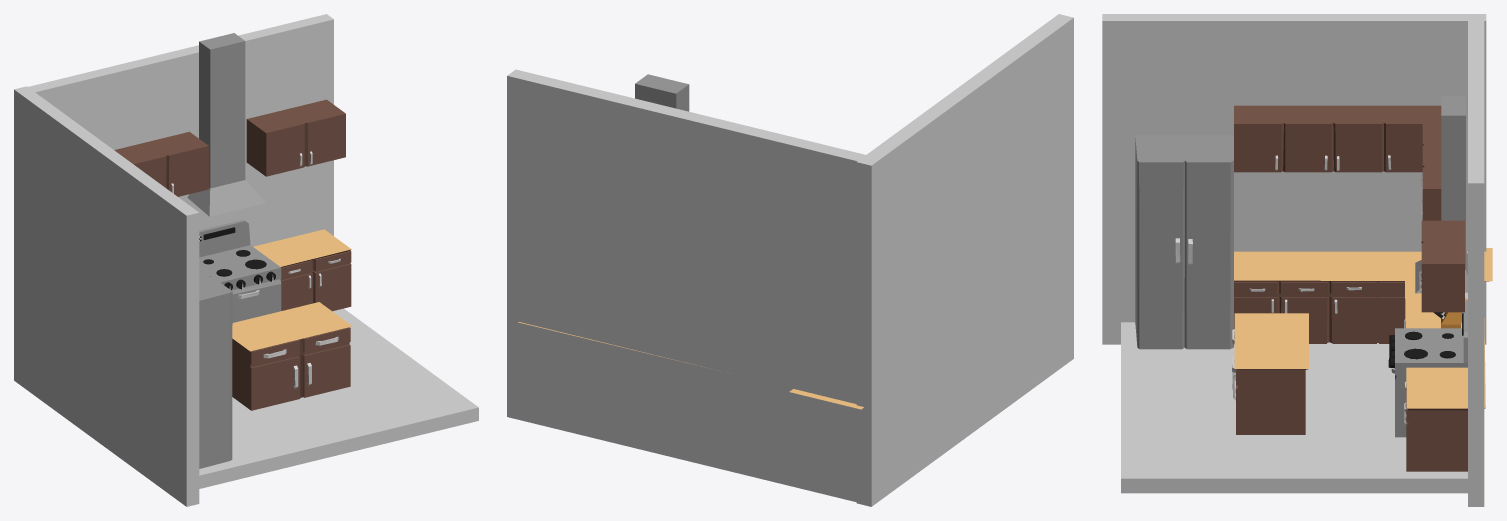
File: Kitchen.fbx
3 renders of one model, left to right at view 1: azimuth 30°, elevation 25°; view 2: azimuth 150°, elevation 25°; view 3: azimuth 270°, elevation 25°, orthographic. The views are drawn at different scales.
Parts seen in each view (by area): view 1: mesh_9585808, mesh_1810159463, mesh_107145946, mesh_1348253054, mesh_1000109285, mesh_536980032, mesh_384672652, mesh_1142142446, mesh_900006215, mesh_1955243732; view 2: mesh_1810159463, mesh_9585808, mesh_1000109285; view 3: mesh_9585808, mesh_107145946, mesh_536980032, mesh_1913738476, mesh_2142097961, mesh_1348253054, mesh_1810159463, mesh_1142142446, mesh_384672652, mesh_1000109285, mesh_900006215, mesh_1955243732.
Part boxes in pixels (box(x1,y1,x2,y2)): mesh_9585808: box(14, 86, 199, 506); mesh_1810159463: box(28, 14, 333, 246); mesh_107145946: box(199, 308, 478, 488); mesh_1348253054: box(232, 302, 352, 410); mesh_1000109285: box(187, 33, 265, 216); mesh_536980032: box(199, 267, 232, 468); mesh_384672652: box(246, 99, 345, 176); mesh_1142142446: box(253, 229, 351, 311); mesh_900006215: box(199, 219, 281, 322); mesh_1955243732: box(114, 131, 208, 196); mesh_1810159463: box(507, 69, 865, 502); mesh_9585808: box(856, 14, 1073, 506); mesh_1000109285: box(635, 74, 689, 111); mesh_9585808: box(1102, 14, 1486, 344); mesh_107145946: box(1121, 322, 1467, 493); mesh_536980032: box(1135, 135, 1233, 349); mesh_1913738476: box(1234, 248, 1492, 343); mesh_2142097961: box(1234, 105, 1441, 172); mesh_1348253054: box(1234, 313, 1308, 434); mesh_1810159463: box(1468, 21, 1484, 506); mesh_1142142446: box(1404, 273, 1485, 471); mesh_384672652: box(1421, 220, 1464, 312); mesh_1000109285: box(1415, 96, 1467, 293); mesh_900006215: box(1395, 301, 1467, 437); mesh_1955243732: box(1422, 124, 1441, 220).
Bounding box in the file's own units: 195 × 181 × 190.
